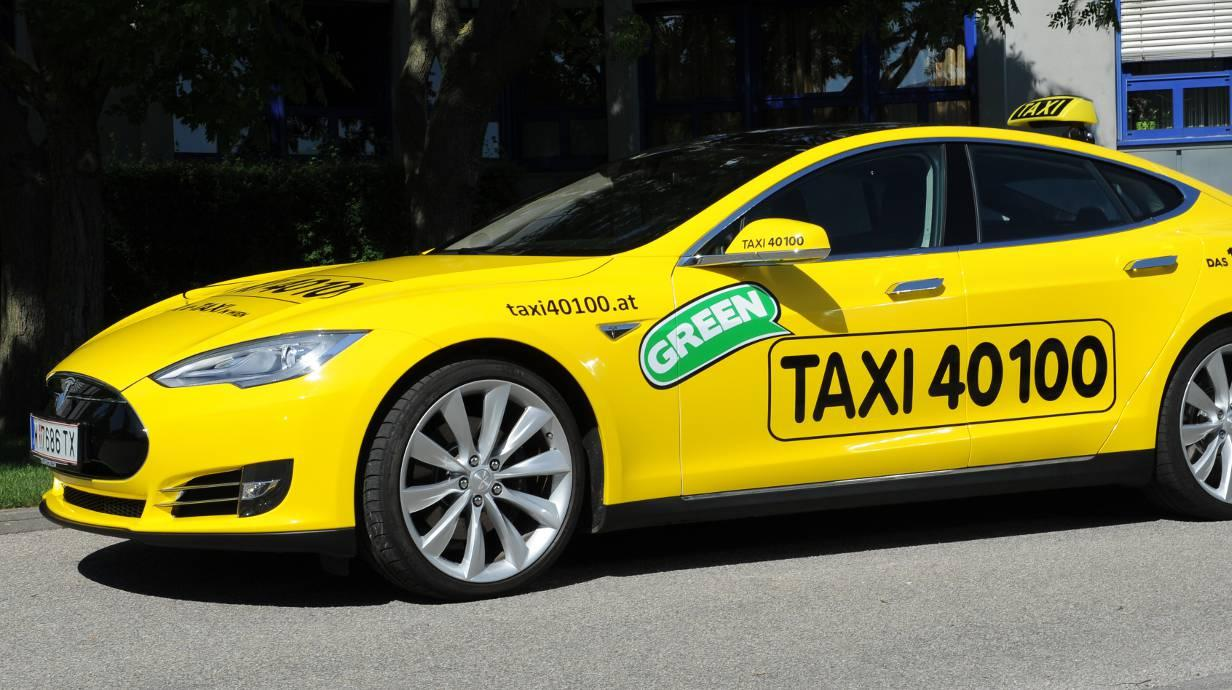taxi: (25, 52, 1232, 591)
